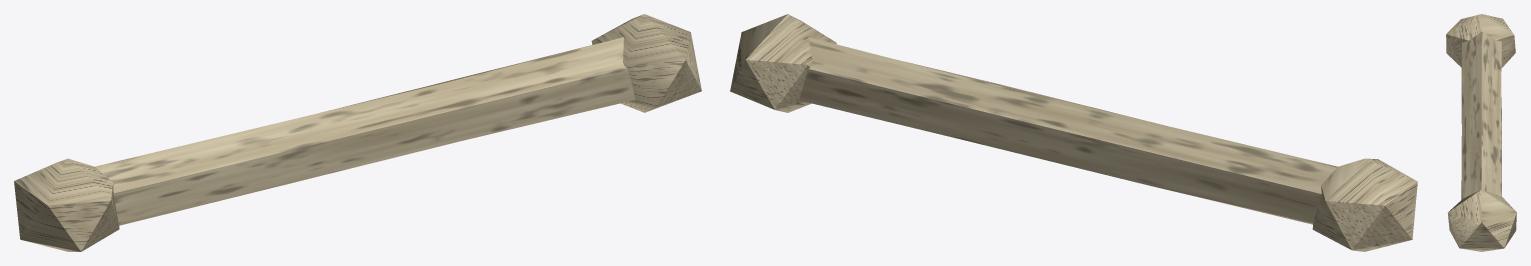
Rendered from ITEM_Bone.fbx.
3 views of the same model, side by side, from view 1: azimuth 30°, elevation 25°; view 2: azimuth 150°, elevation 25°; view 3: azimuth 270°, elevation 25° (orthographic). The views are drawn at different scales.
Visible parts, largest first — view 1: ITEM_Bone; view 2: ITEM_Bone; view 3: ITEM_Bone.
Boxes of the visible parts, x1,y1,x2,y2 form: ITEM_Bone: [14, 14, 701, 251]; ITEM_Bone: [730, 14, 1417, 251]; ITEM_Bone: [1446, 14, 1516, 251].
Size of the model in its own units: 0.3489 by 0.0492 by 0.0505.
